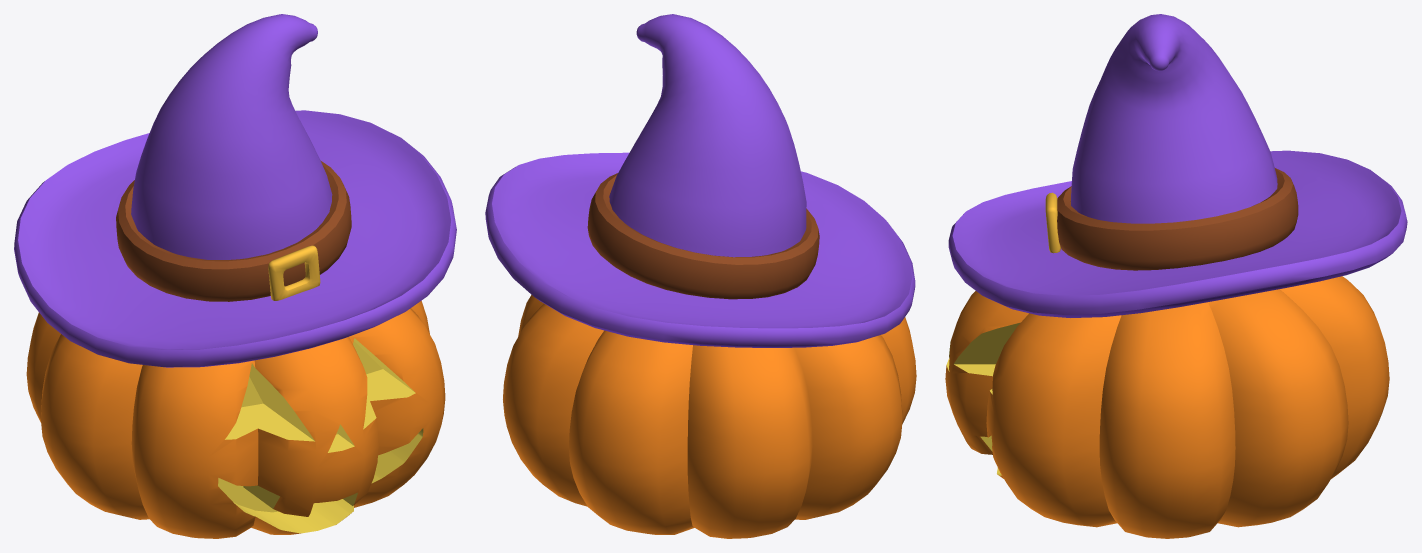
The model's file is JackOLanternGlowing.fbx.
3 renders of one model, left to right at view 1: azimuth 30°, elevation 25°; view 2: azimuth 150°, elevation 25°; view 3: azimuth 270°, elevation 25°, orthographic. The views are drawn at different scales.
Visible parts, largest first — view 1: JackOLanternGlowing, JackOLanternGlowingGlow; view 2: JackOLanternGlowing; view 3: JackOLanternGlowing, JackOLanternGlowingGlow.
Part boxes in pixels (x1,y1,x2,y2): JackOLanternGlowing: (14,14,456,538); JackOLanternGlowingGlow: (218,338,423,533); JackOLanternGlowing: (485,14,916,538); JackOLanternGlowing: (945,14,1407,538); JackOLanternGlowingGlow: (946,322,1020,475).
Bounding box in the file's own units: 222 × 261 × 226.
2 materials, 2 textured.
